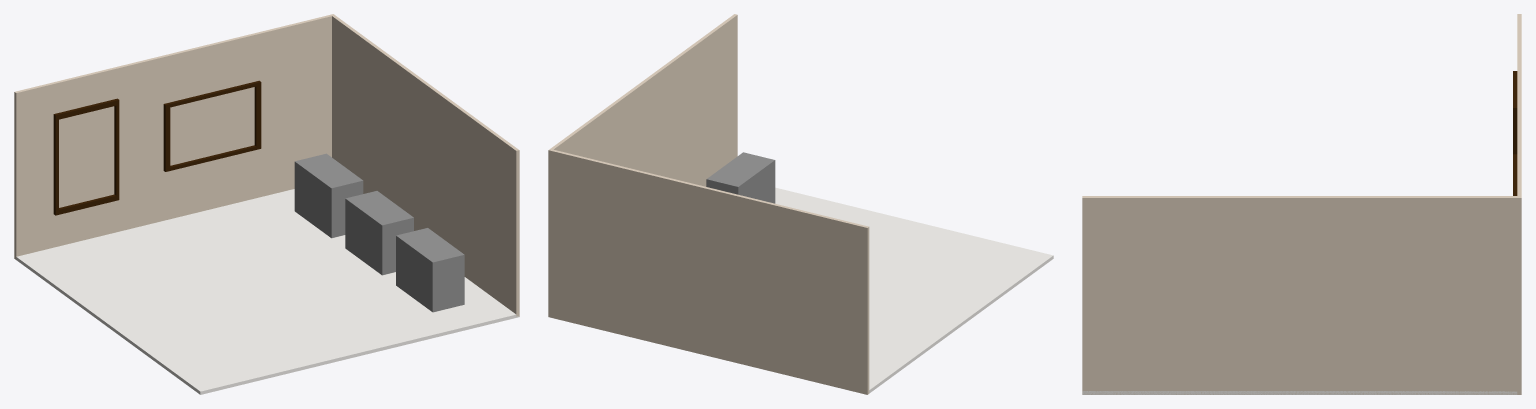
Rendered from Padtai.glb.
The picture shows the model from 3 angles, left to right: view 1: azimuth 30°, elevation 25°; view 2: azimuth 150°, elevation 25°; view 3: azimuth 270°, elevation 25°; orthographic projection. The views are drawn at different scales.
Visible parts, largest first — view 1: Plane, Plane.002, Plane.001, Plane.006, Plane.005, Plane.007, Plane.004, Plane.003; view 2: Plane.002, Plane, Plane.001, Plane.006; view 3: Plane.001, Plane.002, Plane, Plane.003.
Boxes of the visible parts, left/top/right/bottom form: Plane: left=16, top=189, right=518, bottom=394; Plane.002: left=14, top=14, right=334, bottom=259; Plane.001: left=332, top=15, right=519, bottom=316; Plane.006: left=396, top=228, right=464, bottom=312; Plane.005: left=294, top=153, right=363, bottom=238; Plane.007: left=345, top=191, right=413, bottom=275; Plane.004: left=163, top=80, right=261, bottom=171; Plane.003: left=53, top=98, right=119, bottom=215; Plane.002: left=548, top=149, right=869, bottom=394; Plane: left=775, top=187, right=1053, bottom=393; Plane.001: left=550, top=14, right=737, bottom=186; Plane.006: left=706, top=152, right=775, bottom=203; Plane.001: left=1082, top=196, right=1517, bottom=394; Plane.002: left=1517, top=14, right=1521, bottom=394; Plane: left=1082, top=391, right=1517, bottom=394; Plane.003: left=1513, top=71, right=1517, bottom=154.
Size of the model in its own units: 20 by 10 by 20.2.
